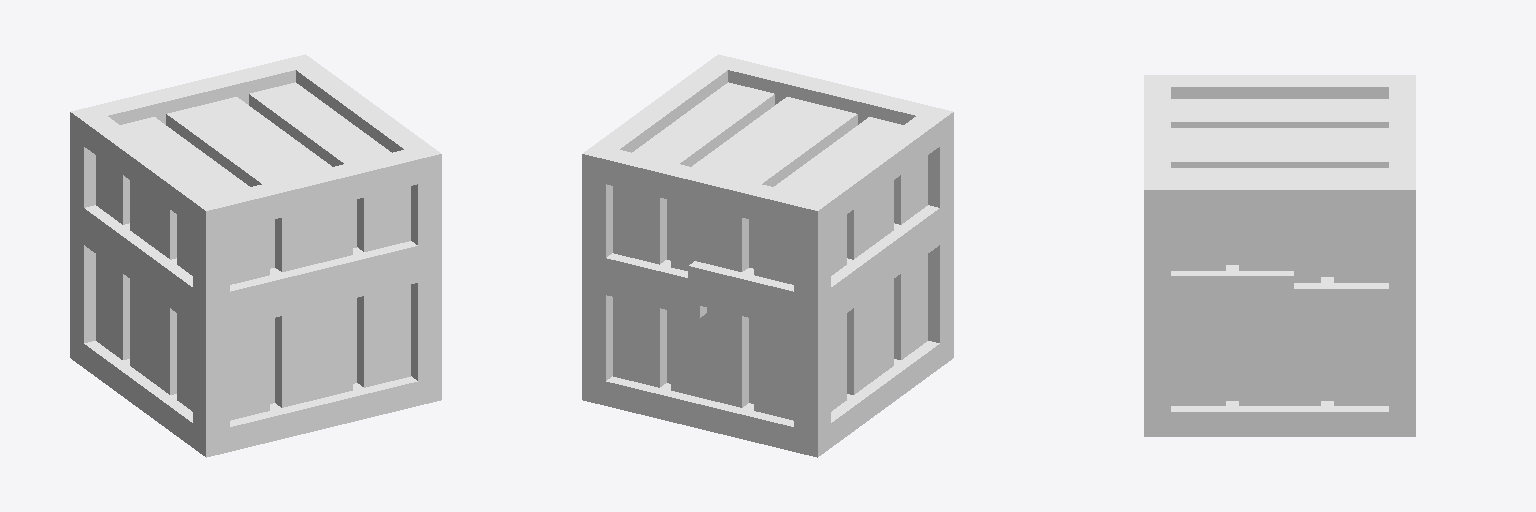
The model's file is crate.obj.
3 renders of one model, left to right at view 1: azimuth 30°, elevation 25°; view 2: azimuth 150°, elevation 25°; view 3: azimuth 270°, elevation 25°, orthographic.
Visible parts, largest first — view 1: crate; view 2: crate; view 3: crate.
Boxes of the visible parts, x1=… form: crate: x1=70, y1=54, x2=441, y2=457; crate: x1=582, y1=54, x2=953, y2=457; crate: x1=1144, y1=75, x2=1415, y2=436.
Size of the model in its own units: 20 by 20 by 20.